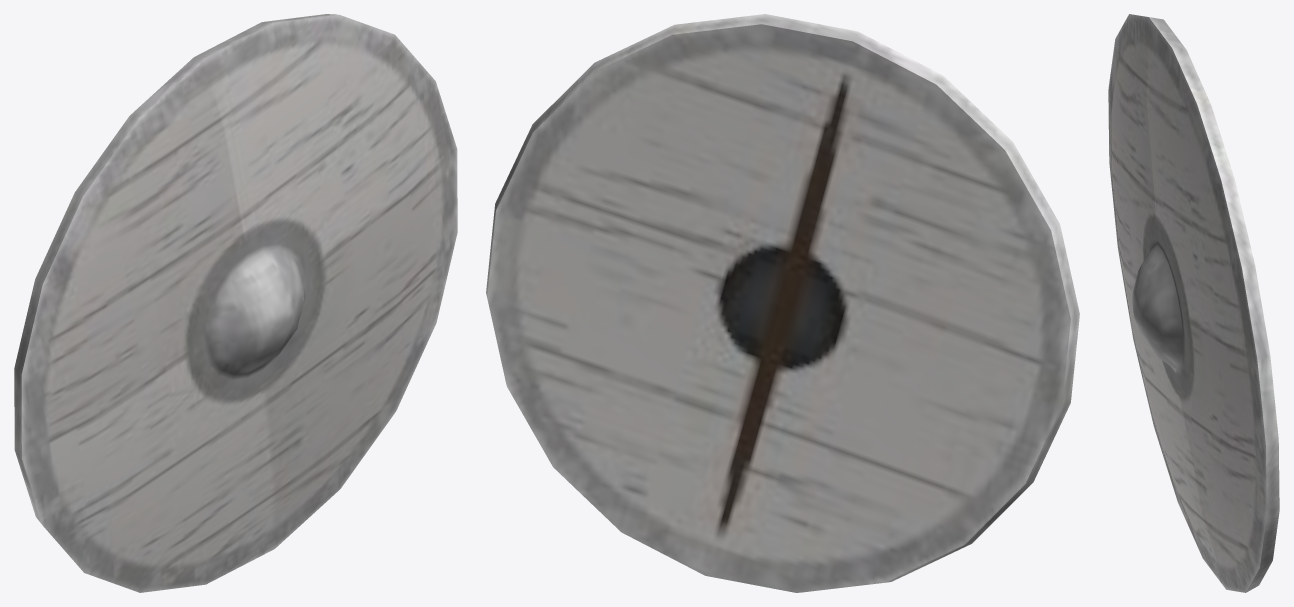
File: shield-female-coppershields.glb
The picture shows the model from 3 angles, left to right: view 1: azimuth 30°, elevation 25°; view 2: azimuth 150°, elevation 25°; view 3: azimuth 270°, elevation 25°; orthographic projection. The views are drawn at different scales.
Size of the model in its own units: 0.6322 by 0.6538 by 0.1901.
1 material, 1 textured.
